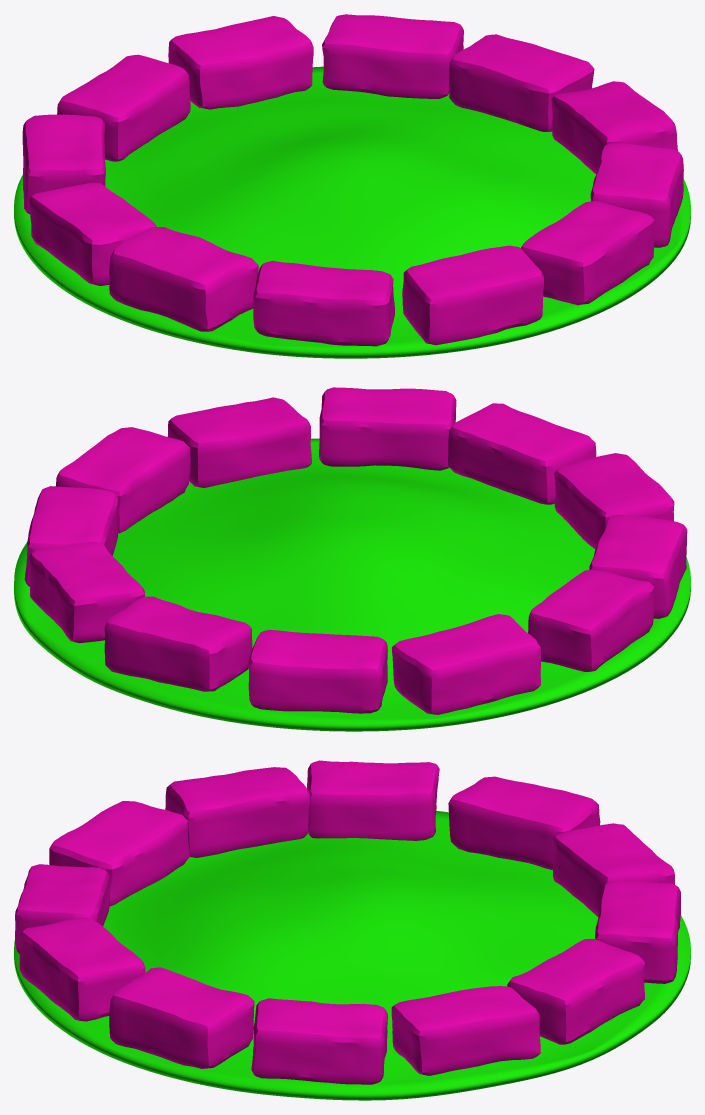
File: fire-pit.fbx
3 renders of one model, top to bottom at view 1: azimuth 30°, elevation 25°; view 2: azimuth 150°, elevation 25°; view 3: azimuth 270°, elevation 25°, orthographic.
Visible parts, largest first — view 1: SM_FirePitBricks, SM_FirePitAshes; view 2: SM_FirePitBricks, SM_FirePitAshes; view 3: SM_FirePitBricks, SM_FirePitAshes.
Boxes of the visible parts, box(x1,y1,x2,y2) form: SM_FirePitBricks: box(22, 14, 683, 346); SM_FirePitAshes: box(14, 66, 690, 358); SM_FirePitBricks: box(24, 387, 687, 714); SM_FirePitAshes: box(14, 438, 690, 731); SM_FirePitBricks: box(15, 760, 680, 1084); SM_FirePitAshes: box(14, 811, 690, 1100).
Size of the model in its own units: 68.11 by 7.58 by 68.1.
